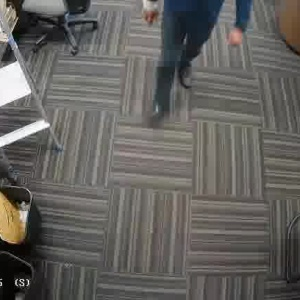person: (145, 0, 243, 125)
